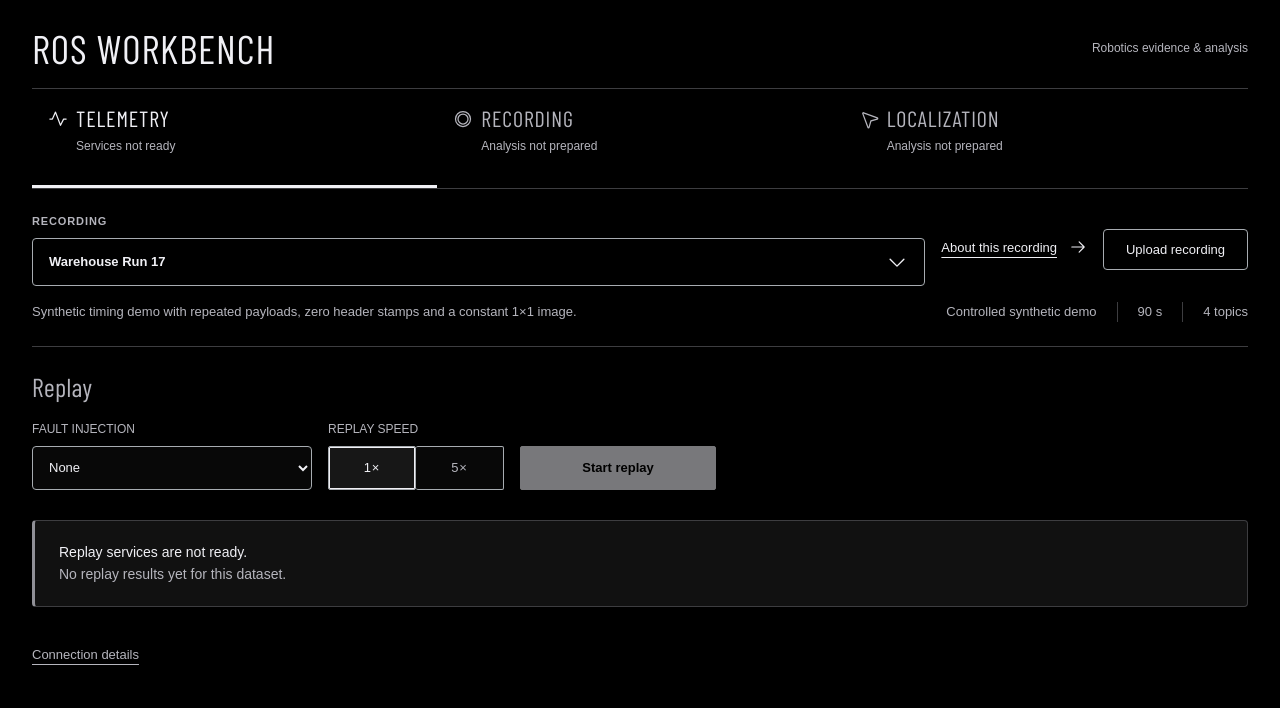
Scenario: ROS Workbench › explains why camera fault injection is limited to real time
Click the radio button named "5× accelerated" at (460, 468), box [416,446,504,490]
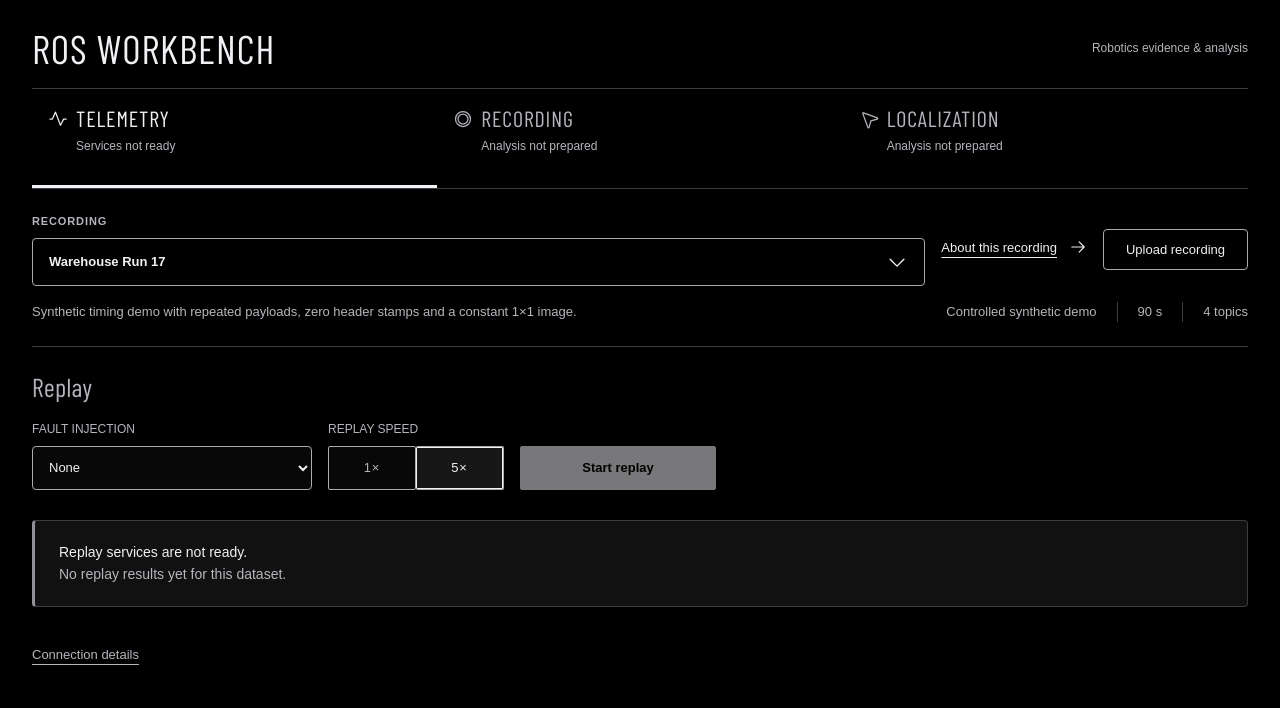
Check: the radio button named "5× accelerated" is checked, box [416,446,504,490]
Select "Camera dropout" in the dropdown labelled "Fault injection" at (172, 468), box [32,446,312,490]
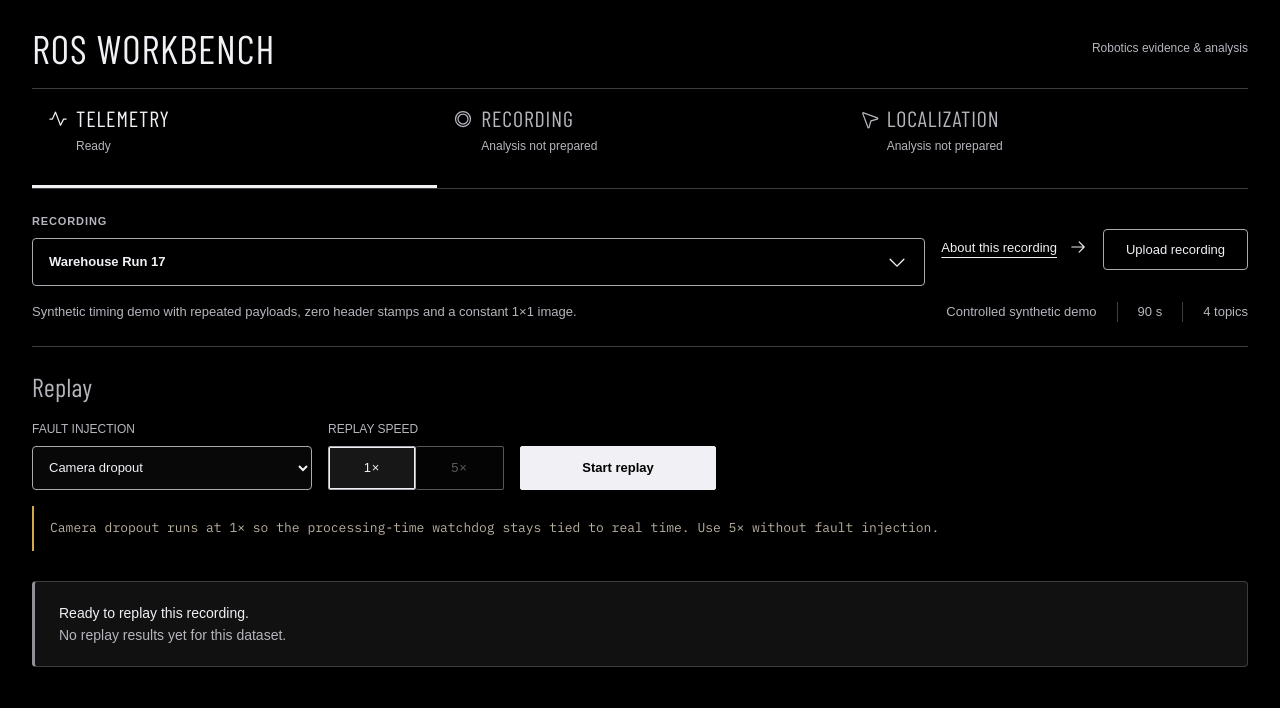
Check: the radio button named "1× real time" is checked, box [328,446,416,490]
Check: the text "processing-time watchdog stays tied to real time" is shown, box [50,519,939,536]
Check: the radio button named "5× accelerated" is disabled, box [416,446,504,490]
